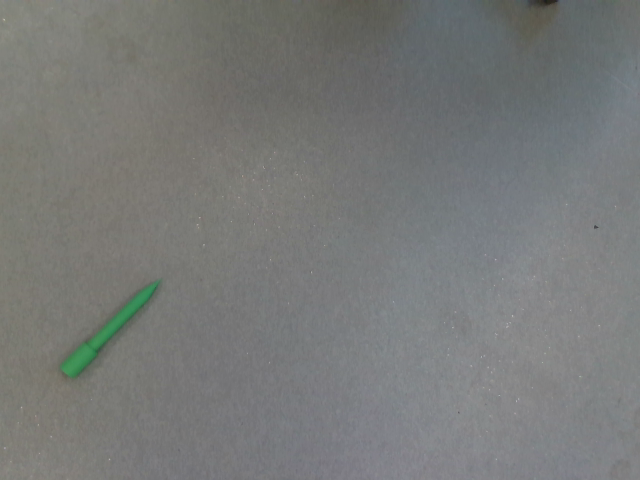Probe: (55, 270, 171, 383)
